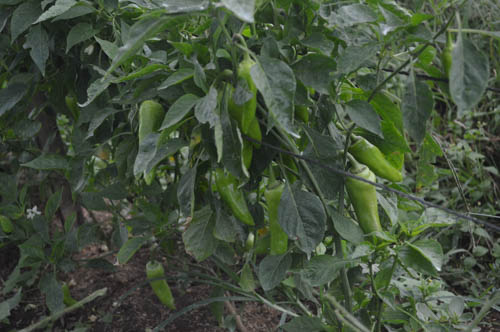ChiliPepper: (128, 92, 165, 187), (345, 162, 387, 245), (345, 134, 409, 185), (213, 161, 258, 226), (264, 179, 291, 260), (237, 52, 261, 136), (140, 255, 175, 312)
